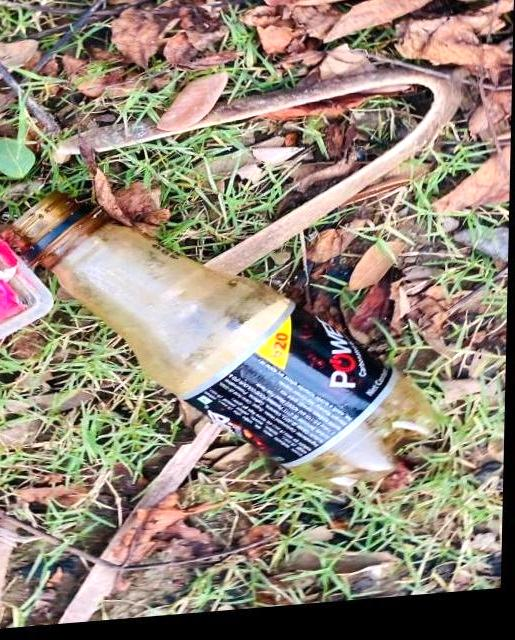bottle: (0, 135, 454, 537)
